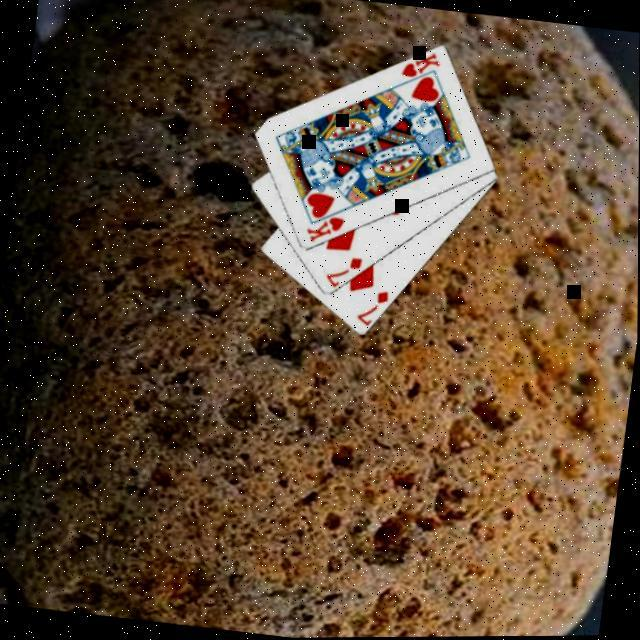7D: (323, 250, 367, 292), (353, 284, 393, 330)
KH: (397, 46, 445, 83), (303, 209, 349, 247)
